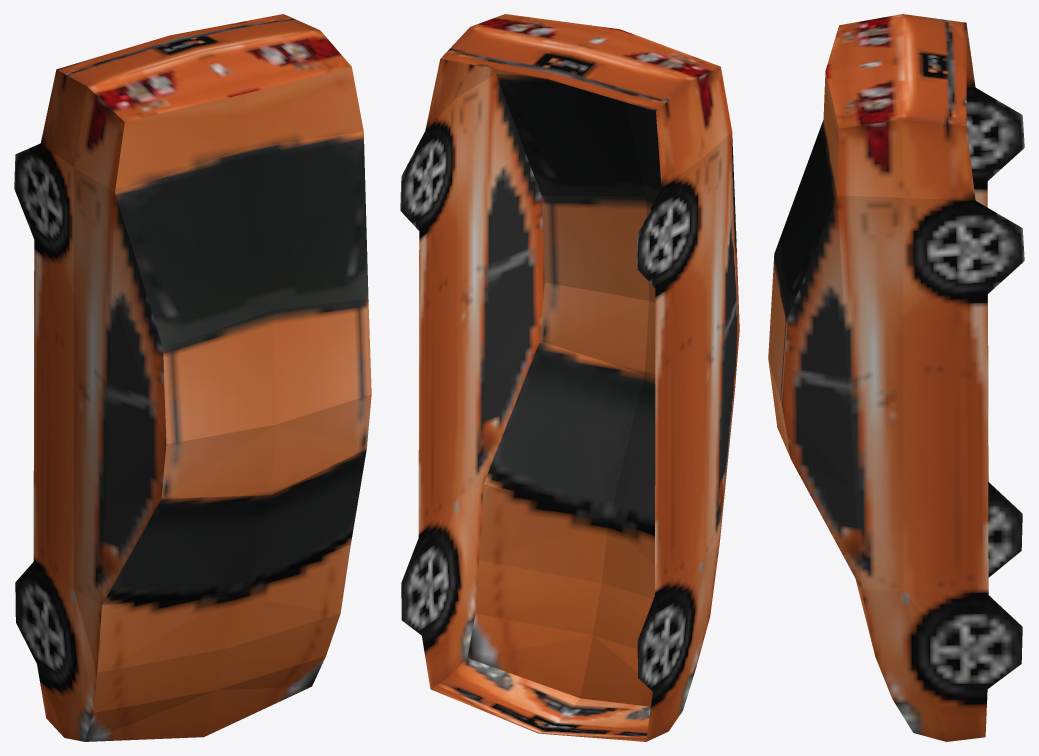
File: rsxcar112_wtf.obj
3 views of the same model, side by side, from view 1: azimuth 30°, elevation 25°; view 2: azimuth 150°, elevation 25°; view 3: azimuth 270°, elevation 25° (orthographic). The views are drawn at different scales.
Parts seen in each view (by area): view 1: group1; view 2: group1; view 3: group1.
Part boxes in pixels (left/top/right/bottom): group1: left=14, top=14, right=371, bottom=741; group1: left=400, top=14, right=739, bottom=741; group1: left=768, top=14, right=1024, bottom=741.
Size of the model in its own units: 259 by 660 by 238.
